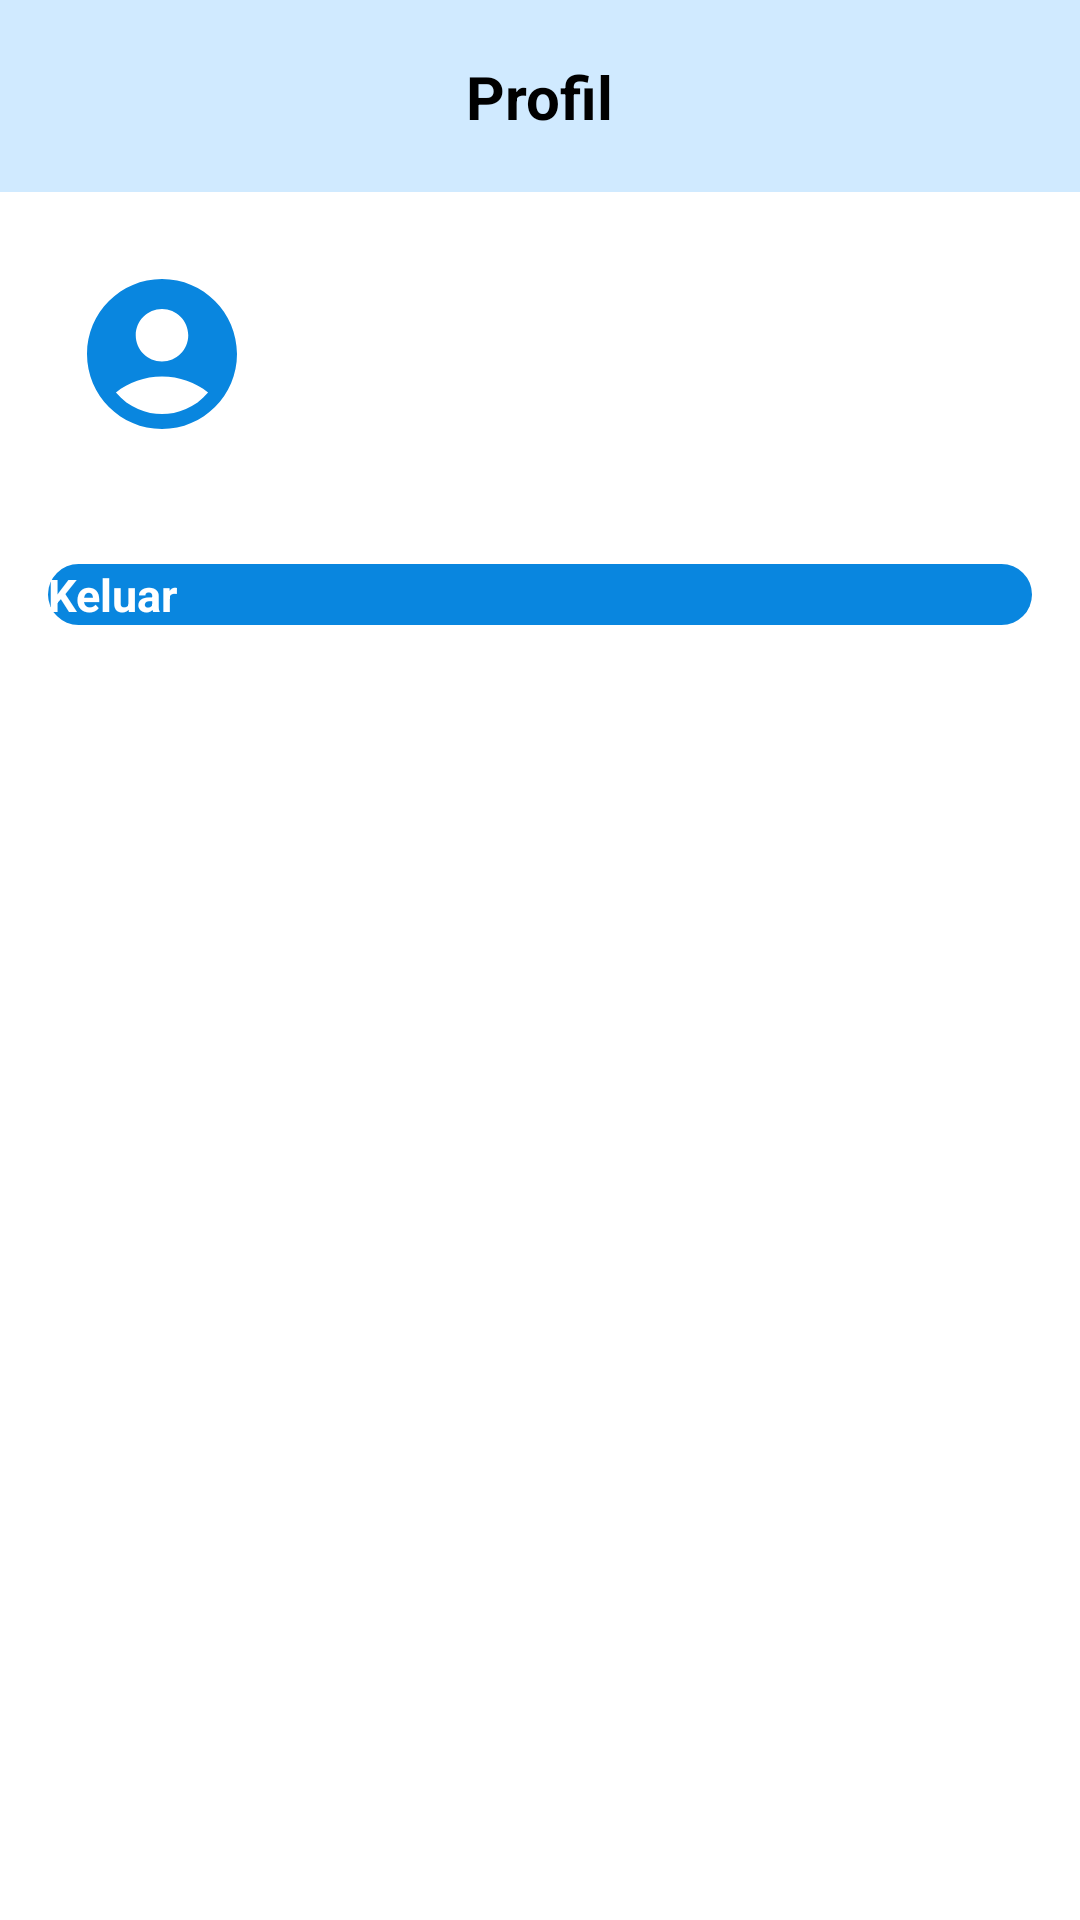

Locate icon controls on the screen. Image size 1080 x 1920, boxes as (x1, y1, x2, y2).
User Profile: (87, 279, 237, 429)
